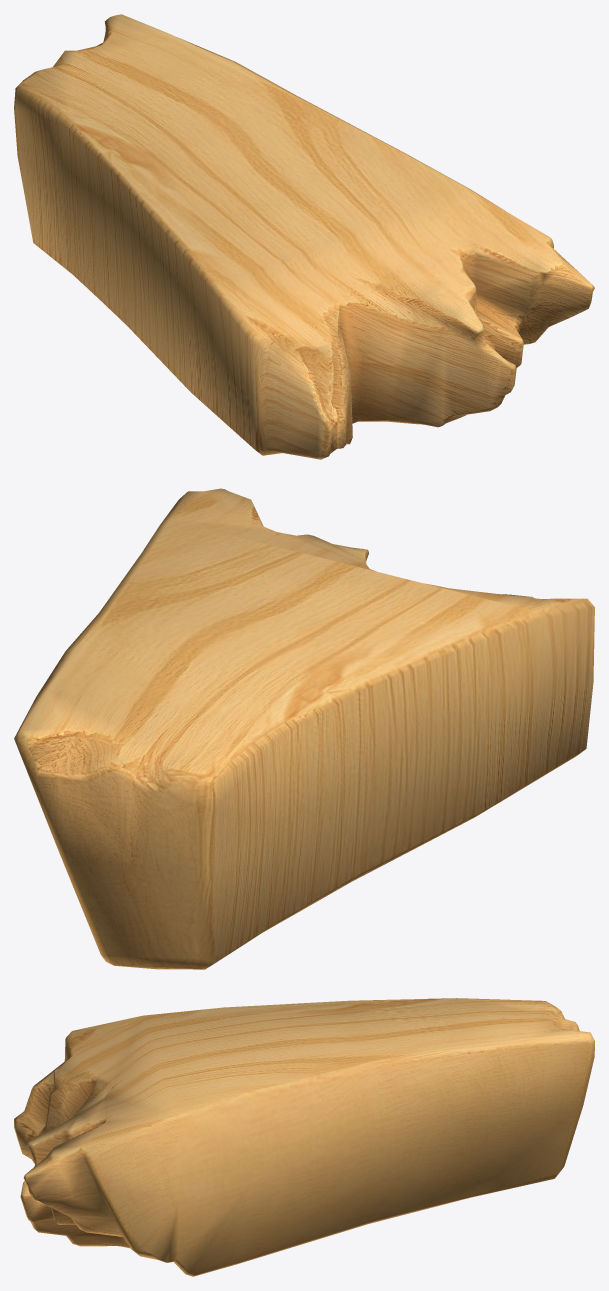
The model's file is chips.glb.
3 views of the same model, one above another, from view 1: azimuth 30°, elevation 25°; view 2: azimuth 150°, elevation 25°; view 3: azimuth 270°, elevation 25° (orthographic). The views are drawn at different scales.
Visible parts, largest first — view 1: tripo_node_2f7951dd-ed4d-40af-9be2-4ba2e268f35a; view 2: tripo_node_2f7951dd-ed4d-40af-9be2-4ba2e268f35a; view 3: tripo_node_2f7951dd-ed4d-40af-9be2-4ba2e268f35a.
Part boxes in pixels (x1,y1,x2,y2): tripo_node_2f7951dd-ed4d-40af-9be2-4ba2e268f35a: (14, 14, 594, 459); tripo_node_2f7951dd-ed4d-40af-9be2-4ba2e268f35a: (14, 488, 594, 969); tripo_node_2f7951dd-ed4d-40af-9be2-4ba2e268f35a: (14, 998, 594, 1276).
Bounding box in the file's own units: 0.5728 × 0.3569 × 0.9995.
Materials: 1 (1 with a texture image).
